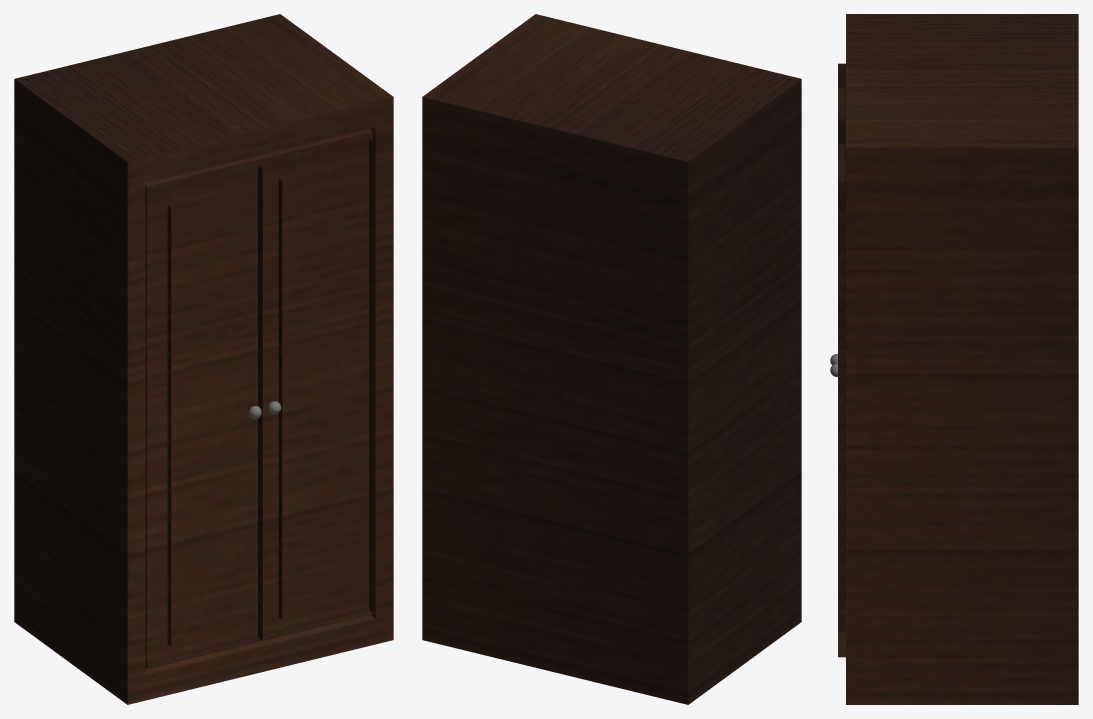
Rendered from Cabinet.fbx.
The picture shows the model from 3 angles, left to right: view 1: azimuth 30°, elevation 25°; view 2: azimuth 150°, elevation 25°; view 3: azimuth 270°, elevation 25°; orthographic projection. The views are drawn at different scales.
Parts seen in each view (by area): view 1: Cabinet; view 2: Cabinet; view 3: Cabinet.
Boxes of the visible parts, x1,y1,x2,y2 form: Cabinet: (14,14,393,704); Cabinet: (422,14,801,704); Cabinet: (830,14,1078,704).
Size of the model in its own units: 271 by 528 by 213.
